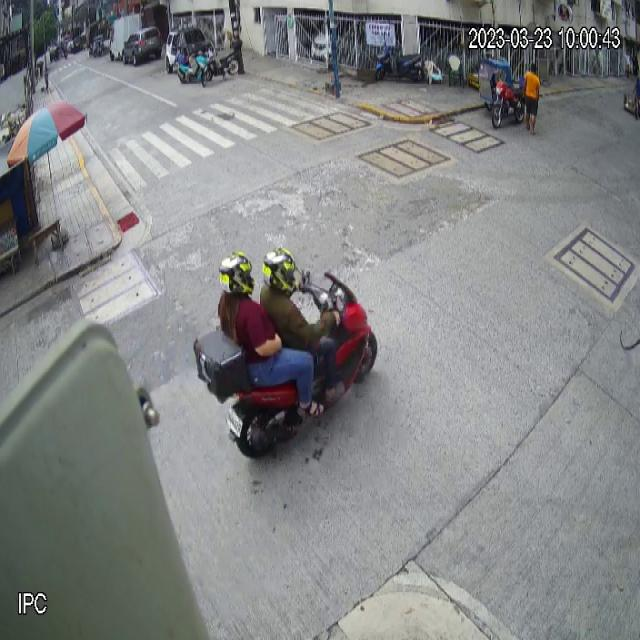Motorcycle: (194, 268, 386, 462)
Tricycle: (476, 58, 524, 130)
